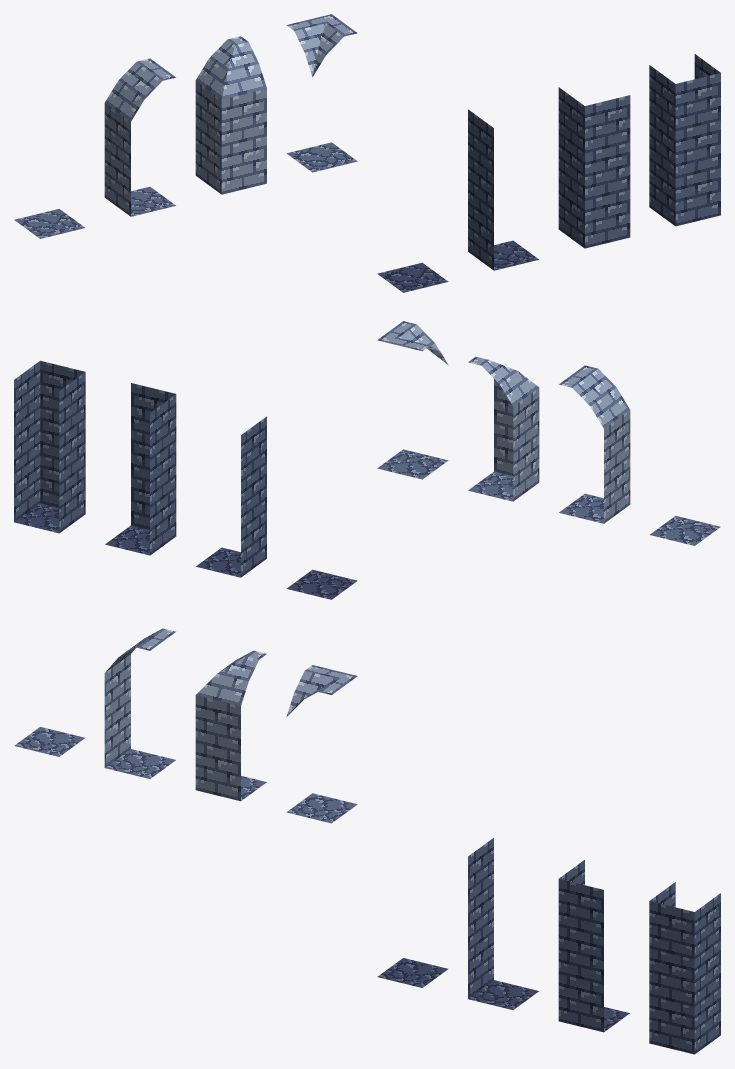
Rendered from dungeon-walls-tiles.glb.
The picture shows the model from 3 angles, top to bottom: view 1: azimuth 30°, elevation 25°; view 2: azimuth 150°, elevation 25°; view 3: azimuth 330°, elevation 25°; orthographic projection.
Visible parts, largest first — view 1: Hole-UTurn-col, Hole-Corner-col, Wall-Corner-col, Wall-Side-col, Hole-Side-col, Wall-Outer-col, Ground-col, Hole-Bottom-col; view 2: Hole-UTurn-col, Hole-Corner-col, Wall-Corner-col, Wall-Side-col, Hole-Side-col, Wall-Outer-col, Ground-col, Hole-Bottom-col; view 3: Hole-UTurn-col, Hole-Corner-col, Wall-Corner-col, Hole-Side-col, Wall-Side-col, Wall-Outer-col, Ground-col, Hole-Bottom-col.
Part boxes in pixels (x1=…): Hole-UTurn-col: x1=649, y1=54, x2=720, y2=226; Hole-Corner-col: x1=558, y1=87, x2=630, y2=248; Wall-Corner-col: x1=195, y1=36, x2=266, y2=194; Wall-Side-col: x1=104, y1=58, x2=175, y2=216; Hole-Side-col: x1=468, y1=109, x2=538, y2=270; Wall-Outer-col: x1=286, y1=14, x2=357, y2=172; Ground-col: x1=14, y1=209, x2=84, y2=238; Hole-Bottom-col: x1=377, y1=262, x2=448, y2=292; Hole-UTurn-col: x1=14, y1=360, x2=85, y2=533; Hole-Corner-col: x1=105, y1=383, x2=176, y2=555; Wall-Corner-col: x1=468, y1=356, x2=539, y2=501; Wall-Side-col: x1=559, y1=365, x2=630, y2=523; Hole-Side-col: x1=196, y1=416, x2=266, y2=577; Wall-Outer-col: x1=377, y1=321, x2=448, y2=479; Ground-col: x1=650, y1=516, x2=720, y2=545; Hole-Bottom-col: x1=286, y1=569, x2=357, y2=599; Hole-UTurn-col: x1=649, y1=882, x2=720, y2=1054; Hole-Corner-col: x1=558, y1=860, x2=629, y2=1032; Wall-Corner-col: x1=195, y1=650, x2=266, y2=801; Hole-Side-col: x1=468, y1=838, x2=538, y2=1009; Wall-Side-col: x1=104, y1=628, x2=175, y2=778; Wall-Outer-col: x1=286, y1=665, x2=357, y2=823; Ground-col: x1=14, y1=727, x2=85, y2=756; Hole-Bottom-col: x1=377, y1=958, x2=447, y2=987.
Size of the model in its own units: 15 by 5.7 by 1.
Materials: 1 (1 with a texture image).
